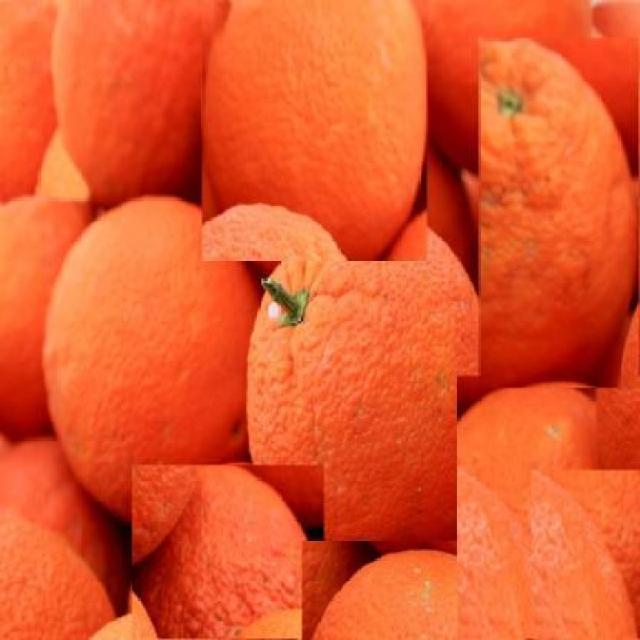Orange: (235, 192, 498, 556), (41, 185, 270, 522), (202, 0, 427, 260), (479, 38, 639, 388), (131, 466, 324, 640), (52, 0, 204, 200), (2, 193, 91, 444), (0, 506, 117, 640), (312, 550, 458, 640)
